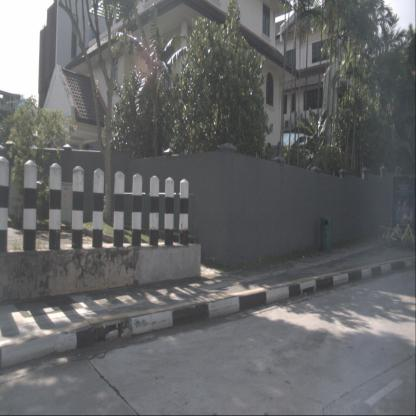vehicle-bicycle: (384, 213, 416, 253), (378, 218, 412, 247)
